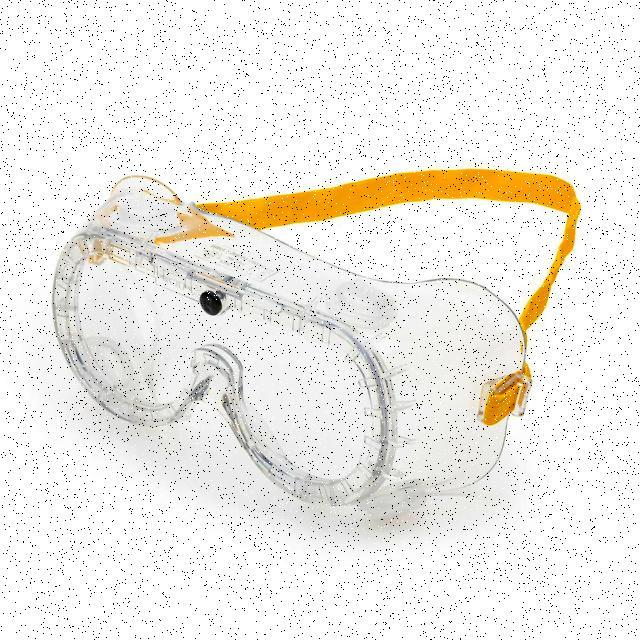Goggles: (43, 157, 593, 526)
